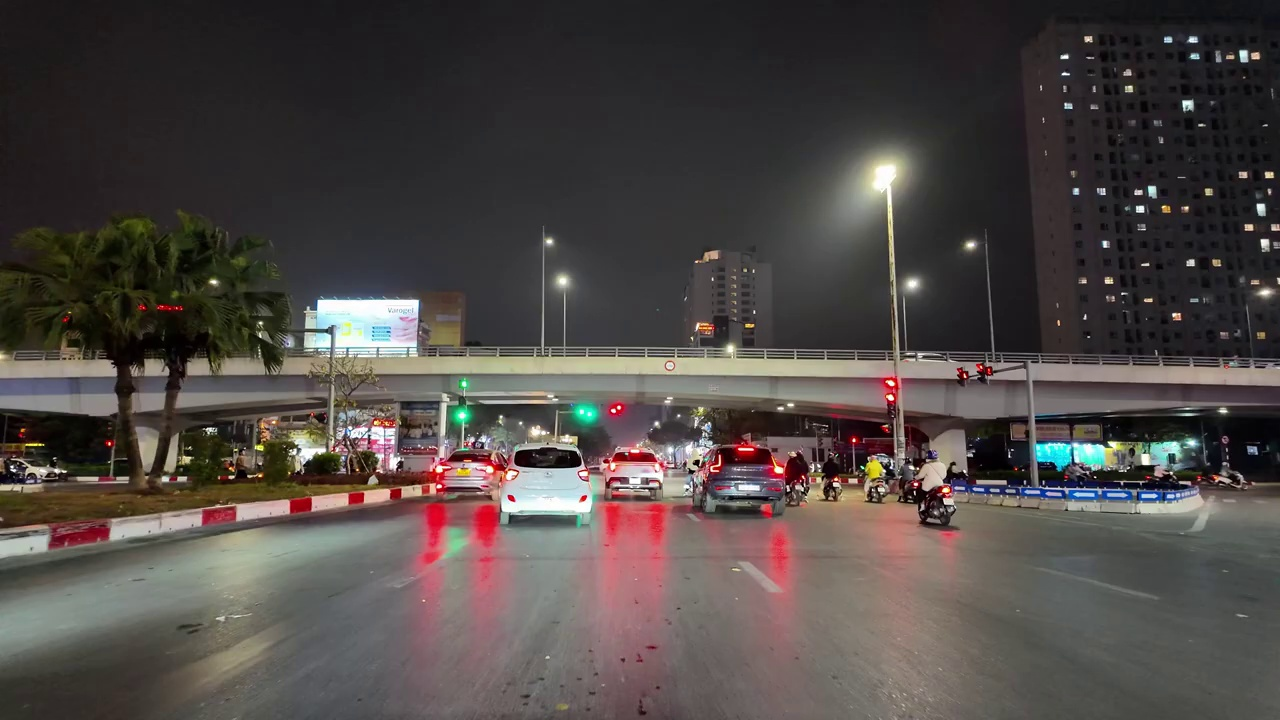acesa: (864, 160, 901, 197), (550, 270, 575, 296), (899, 274, 924, 298), (958, 234, 981, 257), (540, 233, 560, 253)
